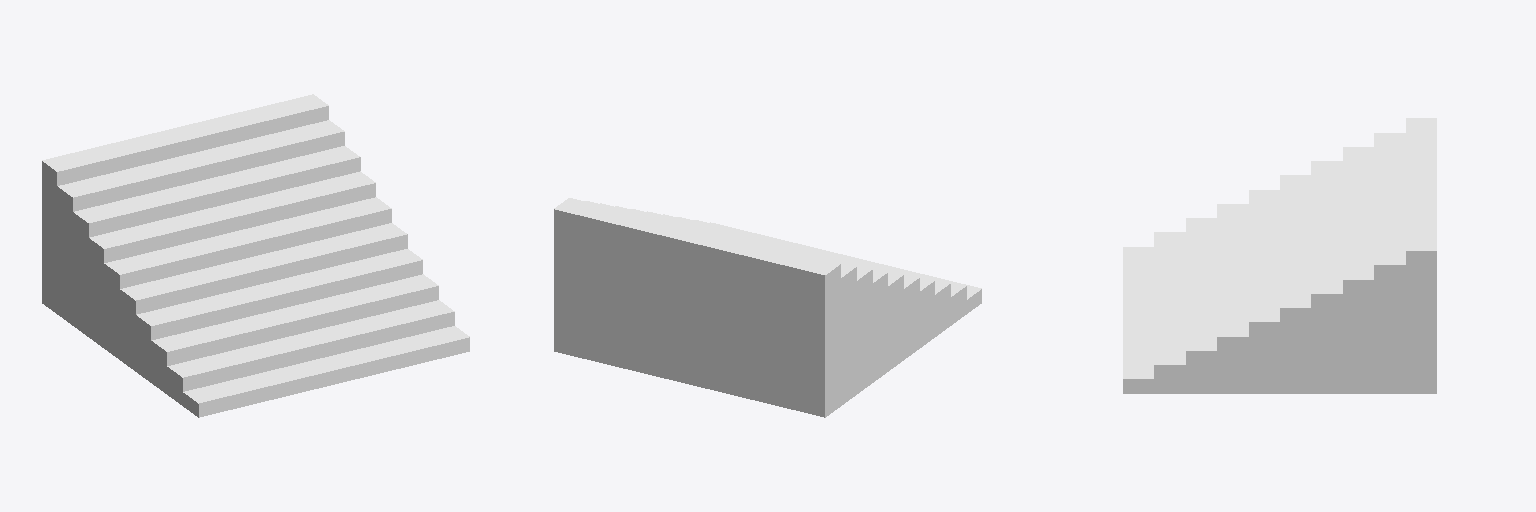
File: stairs2.obj
The picture shows the model from 3 angles: view 1: azimuth 30°, elevation 25°; view 2: azimuth 150°, elevation 25°; view 3: azimuth 270°, elevation 25°; orthographic projection.
Parts seen in each view (by area): view 1: stairs2; view 2: stairs2; view 3: stairs2.
Boxes of the visible parts, box(x1,y1,x2,y2) form: stairs2: box(42, 94, 469, 417); stairs2: box(554, 198, 981, 417); stairs2: box(1123, 118, 1436, 393).
Size of the model in its own units: 20 by 10 by 20.